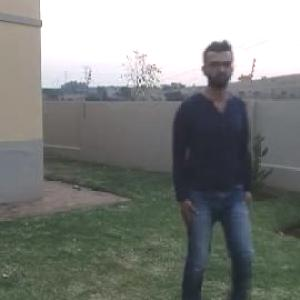follow: (164, 35, 248, 299)
